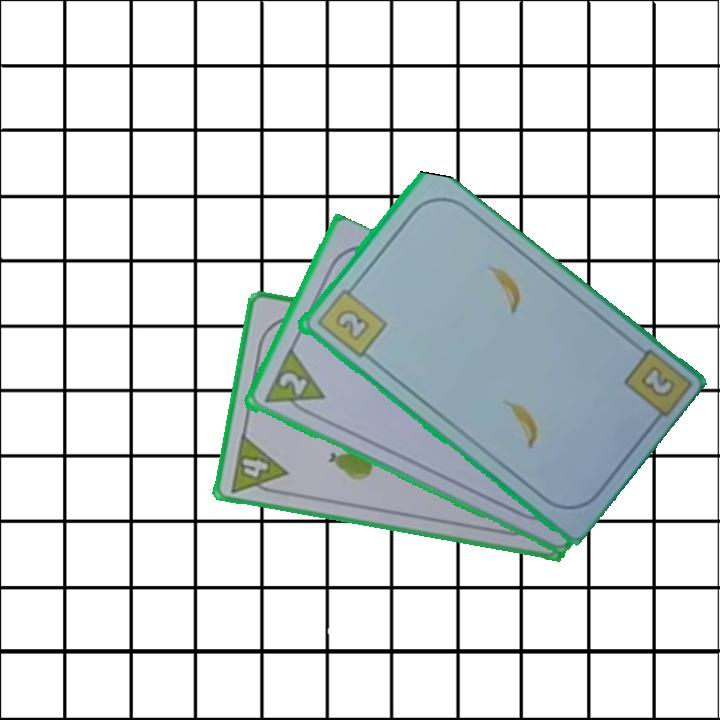2b: (312, 280, 389, 361), (636, 362, 678, 401)
2p: (274, 369, 310, 399)
4p: (227, 430, 290, 499)
